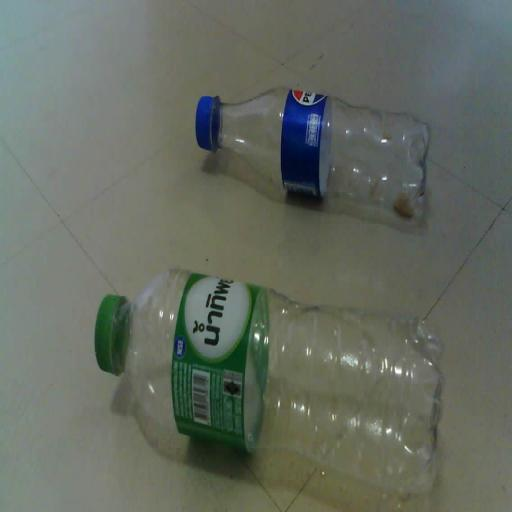bottle: (100, 266, 442, 500), (196, 86, 428, 220)
